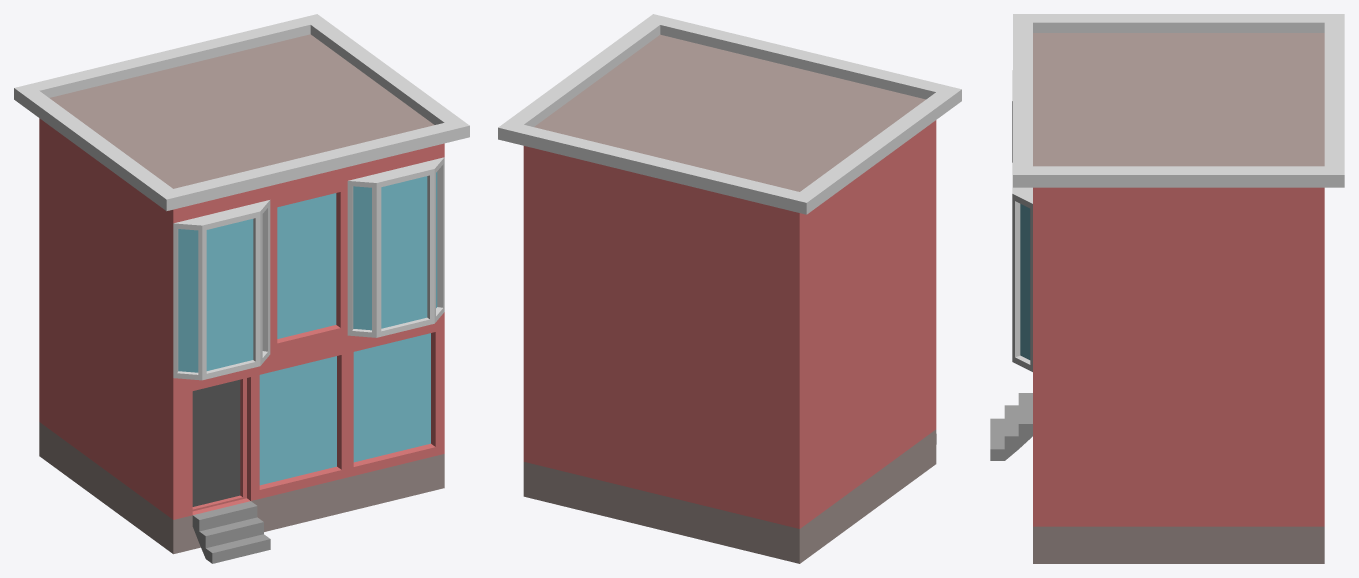
The model's file is Building7.fbx.
3 views of the same model, side by side, from view 1: azimuth 30°, elevation 25°; view 2: azimuth 150°, elevation 25°; view 3: azimuth 270°, elevation 25° (orthographic). The views are drawn at different scales.
Parts seen in each view (by area): view 1: pCube16; view 2: pCube16; view 3: pCube16.
Boxes of the visible parts, x1,y1,x2,y2 form: pCube16: (14, 14, 469, 563); pCube16: (498, 14, 961, 563); pCube16: (990, 14, 1344, 563).
Bounding box in the file's own units: 626 × 721 × 583.
